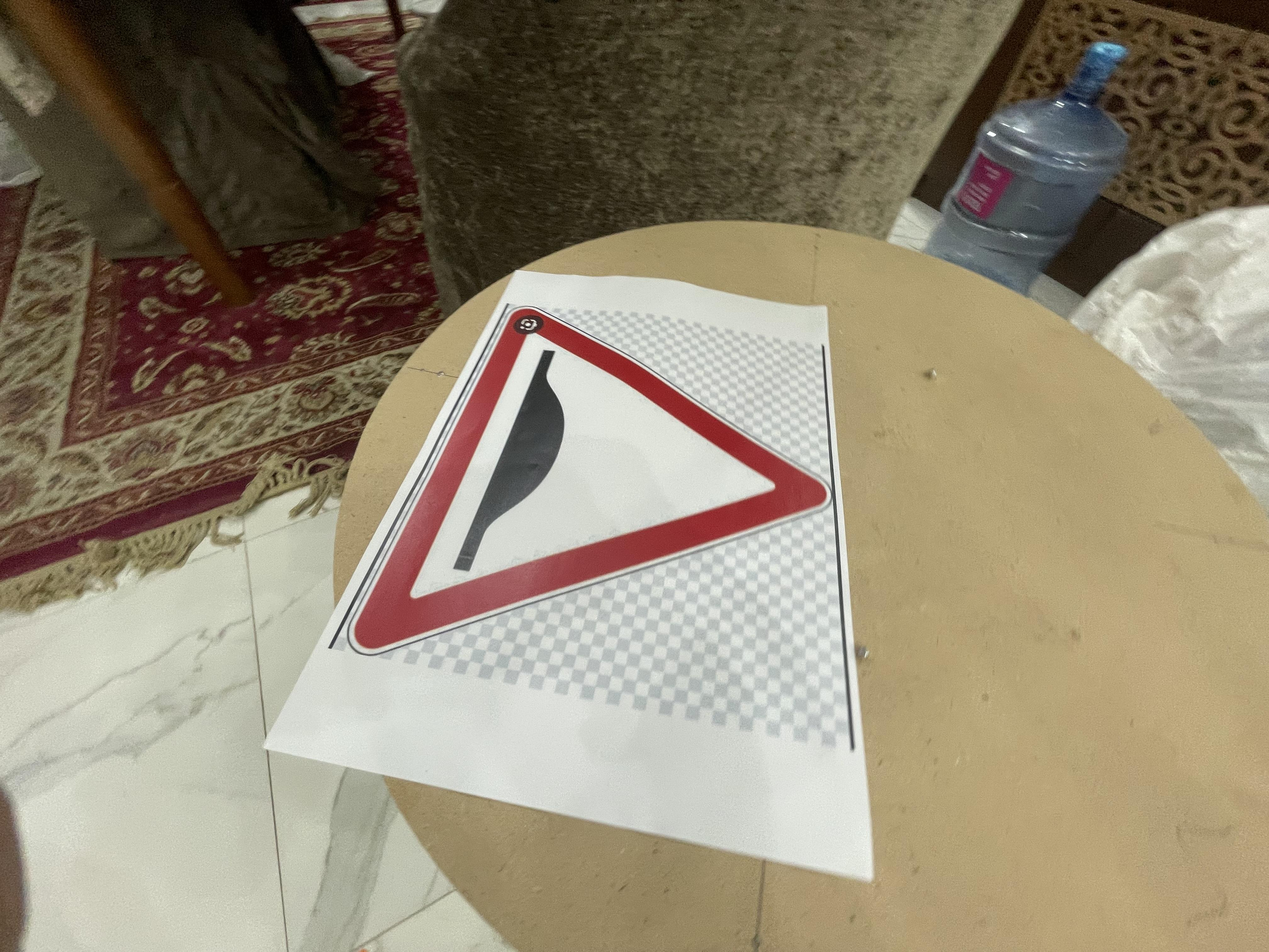Hump: (346, 306, 831, 691)
